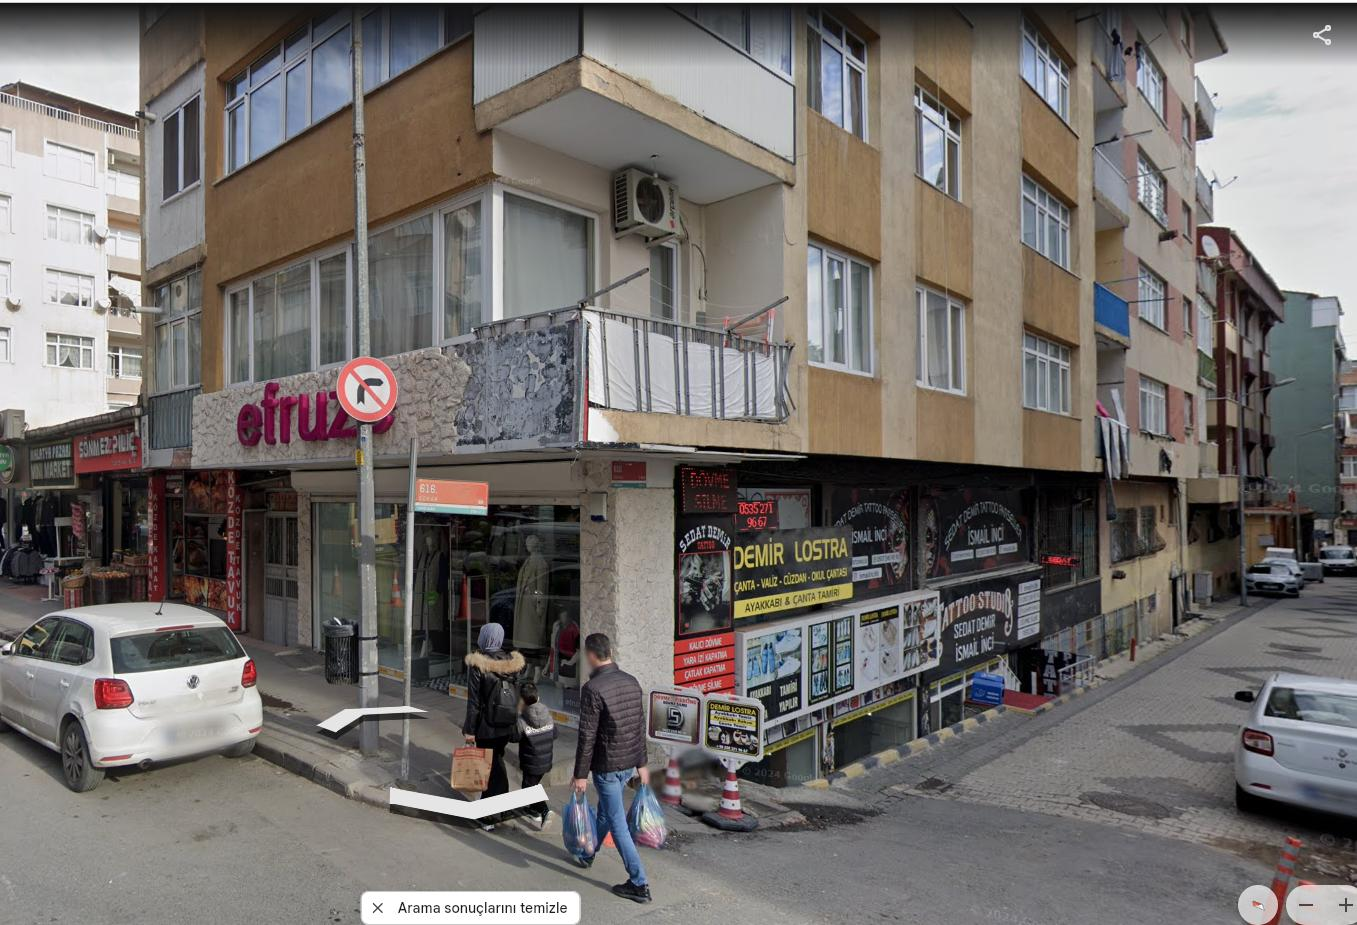rightturnsareforbidden: (340, 360, 397, 418)
